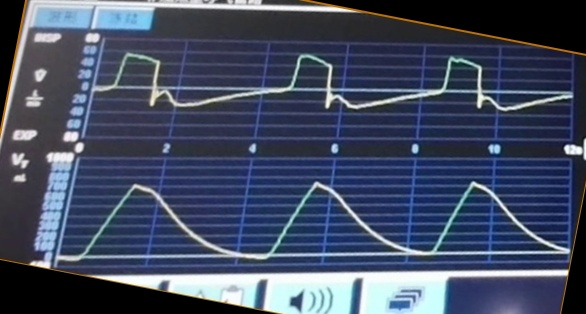Premature_cycling Flow: (104, 46, 544, 134)
Premature_cycling Volume: (76, 178, 563, 266)
